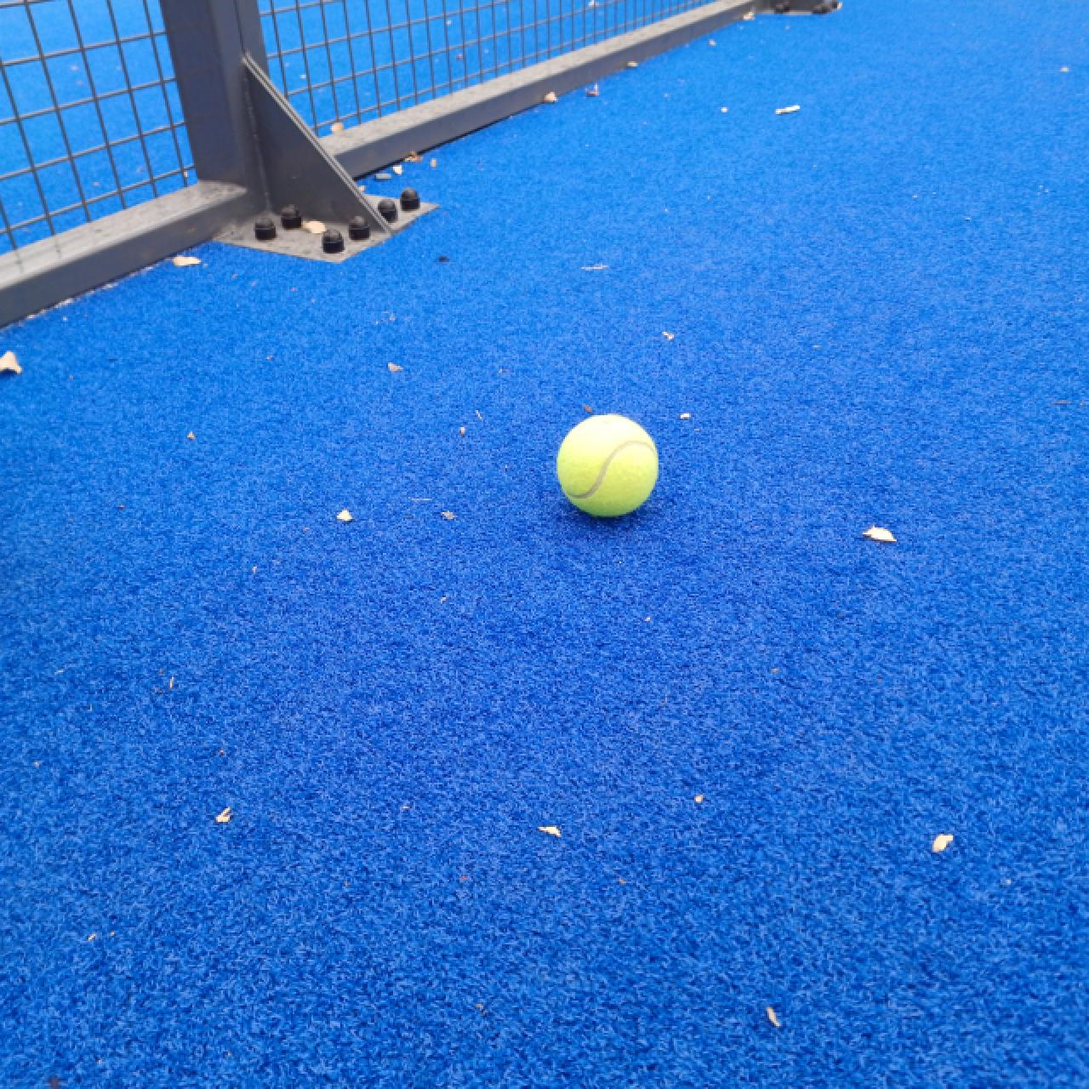tennis-ball: (557, 412, 659, 520)
